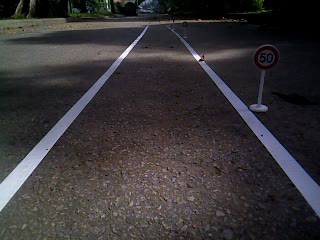limit 50: (251, 43, 281, 74)
